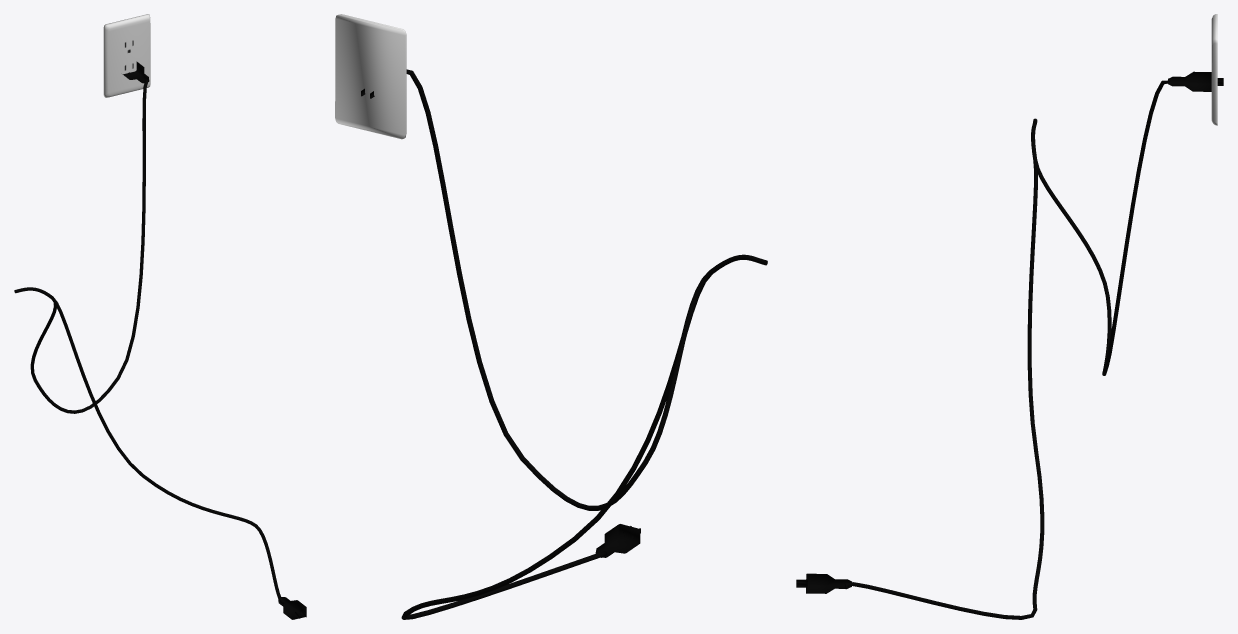
Rendered from printerCord.glb.
3 renders of one model, left to right at view 1: azimuth 30°, elevation 25°; view 2: azimuth 150°, elevation 25°; view 3: azimuth 270°, elevation 25°, orthographic. The views are drawn at different scales.
Visible parts, largest first — view 1: Outlet__0.001, 3dPrinterPlugPluggedIn, 3dPrinterPlugFloor; view 2: Outlet__0.001, 3dPrinterPlugPluggedIn, 3dPrinterPlugFloor; view 3: 3dPrinterPlugFloor, 3dPrinterPlugPluggedIn, Outlet__0.001.
Boxes of the visible parts, <box> form: Outlet__0.001: <box>103,14,150,97</box>; 3dPrinterPlugPluggedIn: <box>14,61,149,413</box>; 3dPrinterPlugFloor: <box>14,287,306,619</box>; Outlet__0.001: <box>335,14,406,139</box>; 3dPrinterPlugPluggedIn: <box>361,69,767,510</box>; 3dPrinterPlugFloor: <box>401,254,767,619</box>; 3dPrinterPlugFloor: <box>796,118,1044,619</box>; 3dPrinterPlugPluggedIn: <box>1031,71,1223,375</box>; Outlet__0.001: <box>1211,14,1217,125</box>.
Bounding box in the file's own units: 0.4474 × 0.8268 × 0.5682.
2 materials, 1 textured.
